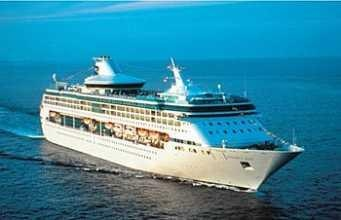youlun: (36, 51, 303, 192)
